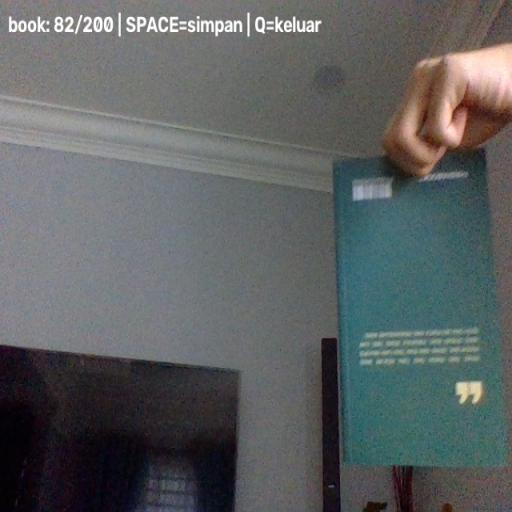Book: (332, 147, 507, 468)
